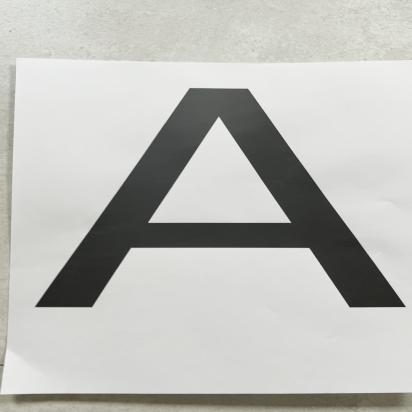seat: (51, 72, 412, 322)
